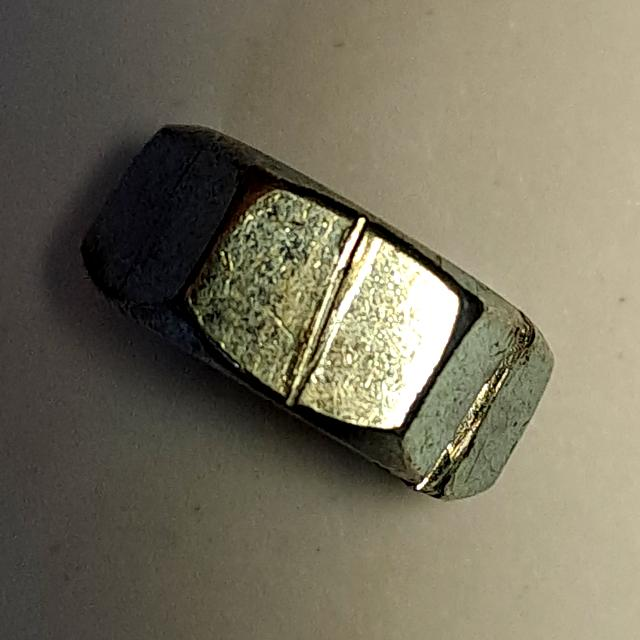Side_Scratches: (70, 113, 575, 528)
